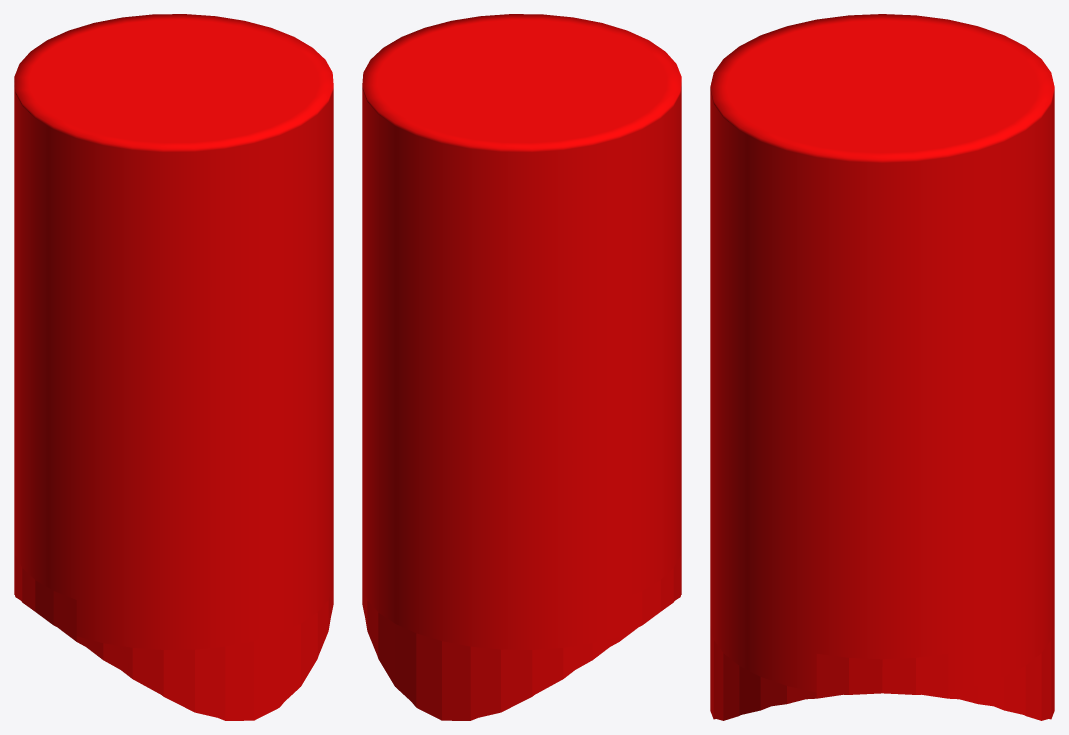
The picture shows the model from 3 angles, left to right: view 1: azimuth 30°, elevation 25°; view 2: azimuth 150°, elevation 25°; view 3: azimuth 270°, elevation 25°; orthographic projection. The views are drawn at different scales.
Visible parts, largest first — view 1: girdle_visual; view 2: girdle_visual; view 3: girdle_visual.
Boxes of the visible parts, x1,y1,x2,y2 form: girdle_visual: [14, 14, 333, 720]; girdle_visual: [362, 14, 681, 720]; girdle_visual: [710, 14, 1054, 720].
Size of the model in its own units: 0.1542 by 0.1542 by 0.3086.
